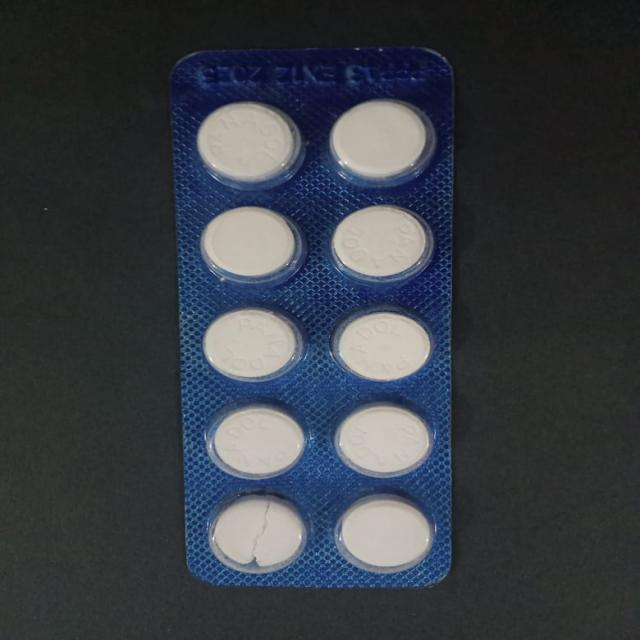defect: (207, 493, 310, 575)
